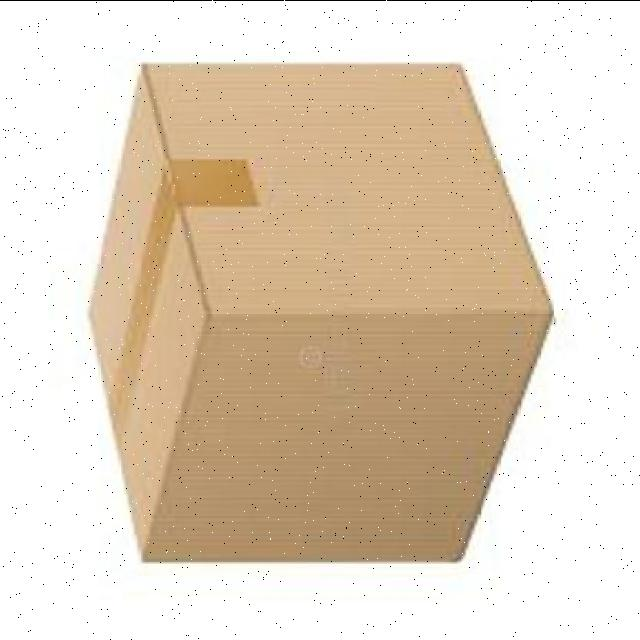normal: (77, 60, 554, 572)
